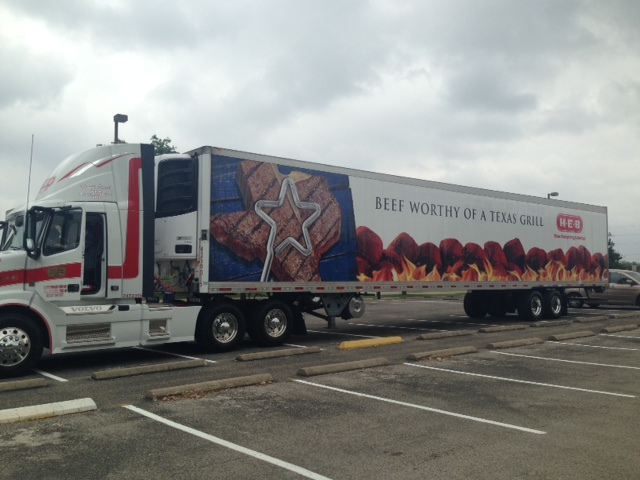truck: (5, 143, 608, 377)
